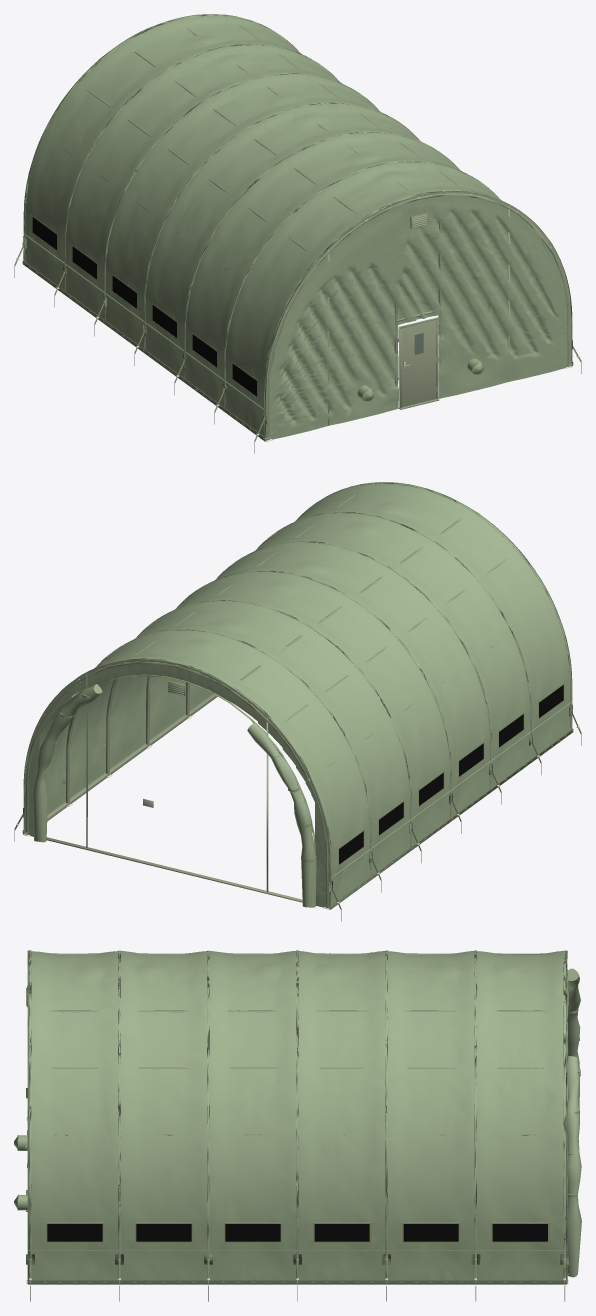
The model's file is mex-26-camp.glb.
3 views of the same model, one above another, from view 1: azimuth 30°, elevation 25°; view 2: azimuth 150°, elevation 25°; view 3: azimuth 270°, elevation 25° (orthographic). The views are drawn at different scales.
Visible parts, largest first — view 1: MEX26_shelter, MEX26_frame; view 2: MEX26_shelter, MEX26_frame; view 3: MEX26_shelter, MEX26_frame.
Boxes of the visible parts, x1,y1,x2,y2 form: MEX26_shelter: (14, 14, 581, 453); MEX26_frame: (59, 24, 572, 441); MEX26_shelter: (14, 482, 581, 921); MEX26_frame: (23, 492, 533, 909); MEX26_shelter: (14, 950, 581, 1301); MEX26_frame: (26, 953, 568, 1283).
Bounding box in the file's own units: 8.66 × 5.53 × 11.66.
